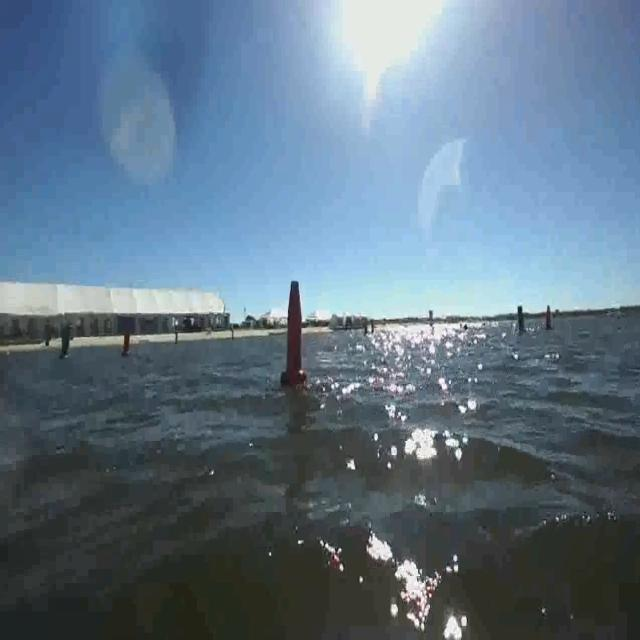green-column-buoy: (58, 323, 74, 361), (516, 306, 527, 334)
red-column-buoy: (282, 277, 308, 391), (120, 328, 133, 360), (543, 305, 552, 331)
